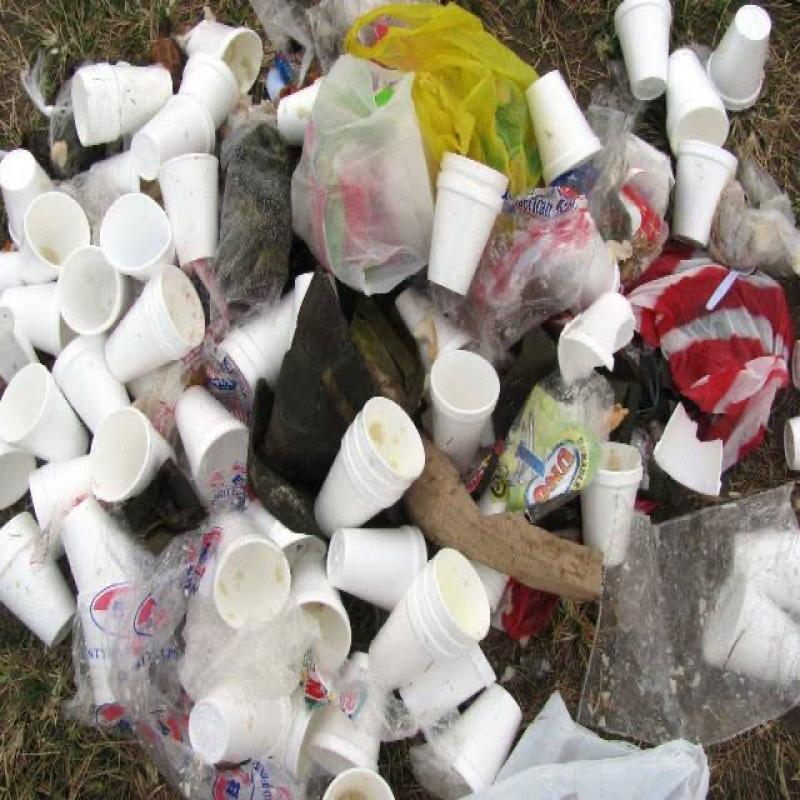cardboard: (399, 447, 608, 605)
plastic bag: (574, 478, 800, 750), (72, 530, 292, 800), (340, 0, 549, 198), (622, 237, 792, 472), (290, 57, 434, 285), (465, 187, 616, 368), (478, 373, 615, 527), (584, 72, 675, 297), (726, 158, 800, 303)
styrofoam containers: (366, 550, 494, 697), (311, 398, 426, 542), (219, 272, 314, 428), (101, 265, 206, 385), (428, 152, 510, 298), (0, 512, 78, 648), (306, 652, 385, 785), (190, 673, 298, 770), (209, 513, 294, 635), (434, 683, 524, 793), (1, 363, 94, 467), (326, 525, 430, 615), (430, 350, 500, 480), (51, 333, 134, 442), (525, 70, 602, 187), (71, 62, 174, 147), (89, 407, 178, 503), (582, 442, 645, 573), (175, 7, 262, 95), (174, 387, 249, 488), (292, 547, 351, 675), (558, 292, 636, 387), (156, 153, 220, 268), (131, 92, 216, 178), (100, 193, 179, 285), (0, 282, 76, 377), (57, 245, 134, 338), (706, 5, 774, 110), (672, 140, 738, 248), (400, 647, 497, 720), (666, 48, 730, 155), (19, 192, 91, 285), (29, 457, 95, 558), (654, 403, 722, 498), (614, 0, 671, 102), (0, 148, 56, 250), (242, 500, 326, 567), (179, 53, 239, 128), (321, 768, 399, 800), (0, 450, 36, 512), (784, 417, 800, 473)
